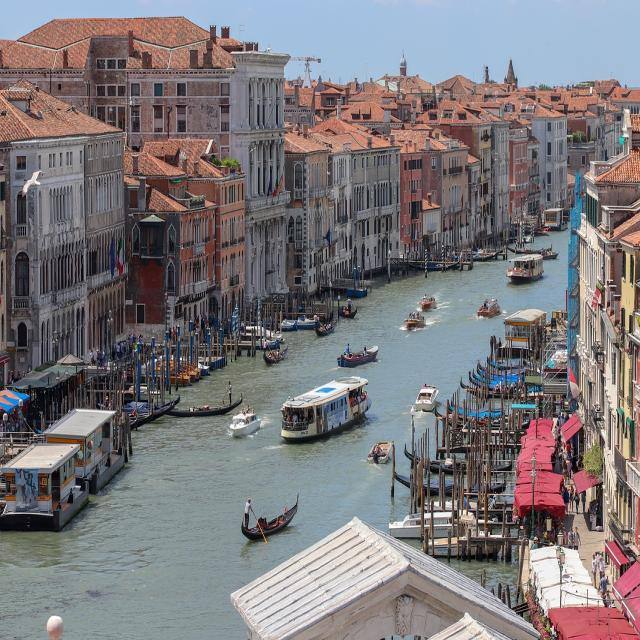boat: (232, 478, 306, 551)
